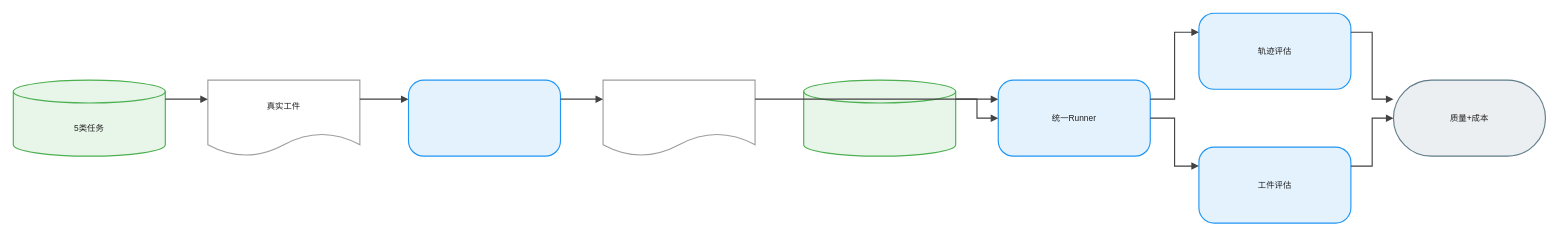
The diagram is 1560 pixels wide and 237 high, and some of its shapes have lost their labels. Here are the shapes that lost their labels. From the top down, the centre of each, then its label:
(x=484, y=117): 任务规格
(x=678, y=117): 677用例
(x=879, y=117): 30个Skill
